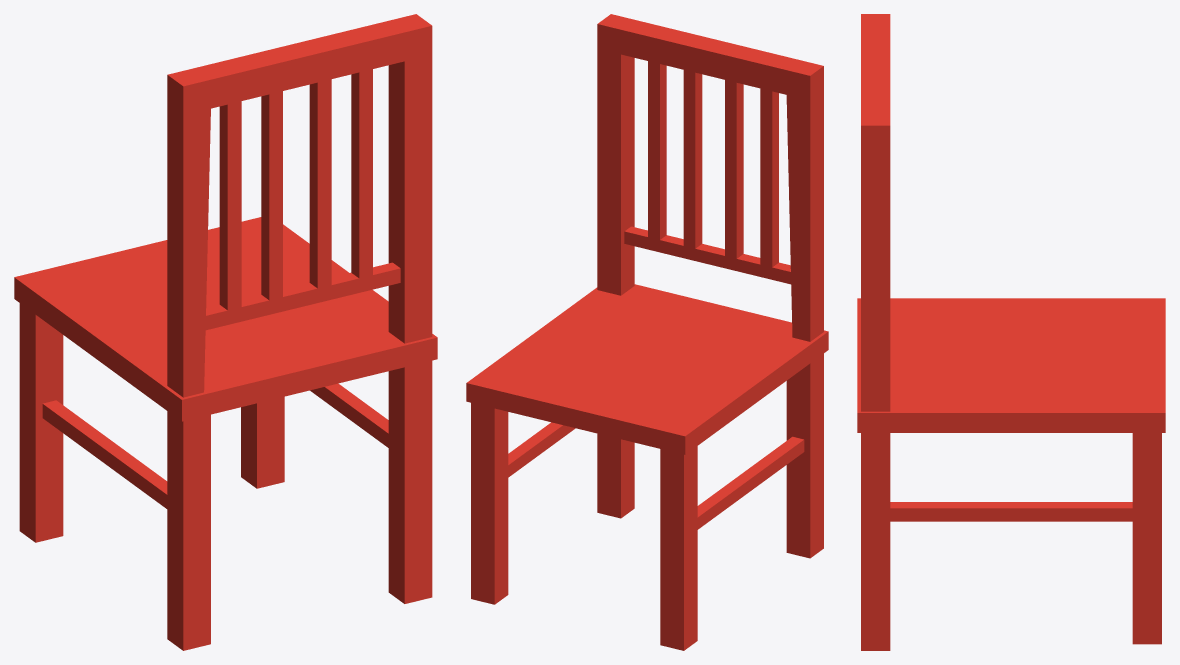
Rendered from chair-by-steven-becker-6uLNWRnQbyK.glb.
The picture shows the model from 3 angles, left to right: view 1: azimuth 30°, elevation 25°; view 2: azimuth 150°, elevation 25°; view 3: azimuth 270°, elevation 25°; orthographic projection. The views are drawn at different scales.
Parts seen in each view (by area): view 1: group1697661068, group236250166, group100771903, group1684547052, group665315691, group392143678, group1919257788, group2012431785, group1919163921, group1291703655, group270665945, group1875761083 (+3 smaller); view 2: group1697661068, group236250166, group100771903, group1684547052, group1919257788, group582039204, group392143678, group2012431785, group1919163921, group1291703655, group270665945, group665315691 (+3 smaller); view 3: group1697661068, group236250166, group665315691, group582039204, group161555836, group100771903.
Part boxes in pixels (x1,y1,x2,y2): group1697661068: (14,217,437,421); group236250166: (388,55,432,343); group100771903: (167,14,432,115); group1684547052: (167,104,210,397); group665315691: (388,360,432,603); group392143678: (167,411,210,650); group1919257788: (19,303,63,542); group2012431785: (309,79,331,288); group1919163921: (219,101,241,310); group1291703655: (351,69,372,278); group270665945: (261,91,282,300); group1875761083: (205,262,400,330); group1697661068: (466,284,828,454); group236250166: (597,49,634,295); group100771903: (597,14,823,100); group1684547052: (786,91,823,341); group1919257788: (660,446,697,650); group582039204: (471,402,508,604); group392143678: (786,353,823,558); group2012431785: (683,70,702,248); group1919163921: (760,88,778,267); group1291703655: (648,61,666,239); group270665945: (725,80,743,258); group665315691: (597,433,634,518); group1697661068: (857,298,1165,432); group236250166: (861,152,890,411); group665315691: (861,433,890,650); group582039204: (1132,433,1161,644); group161555836: (890,502,1132,521); group100771903: (861,14,890,152).
Bounding box in the file's own units: 0.37 × 0.79 × 0.42.
